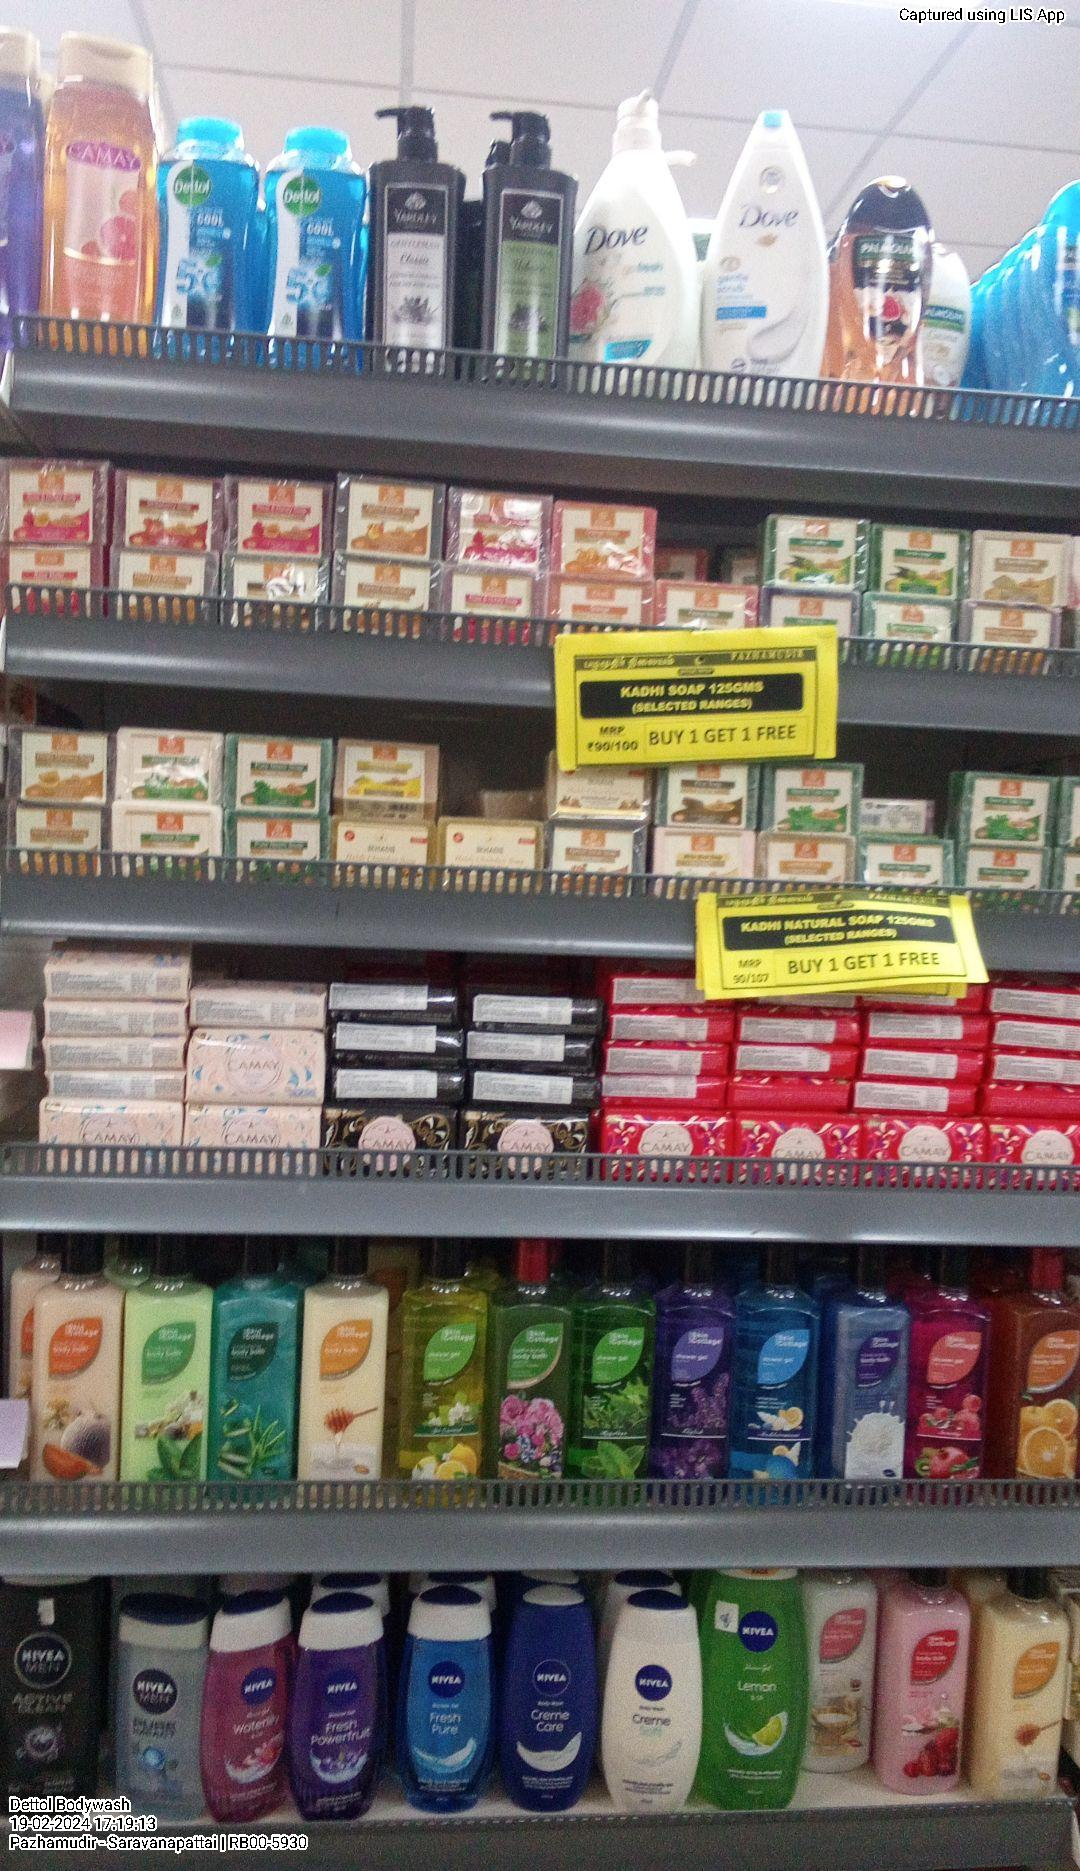Dettol_Bodywash_Cool: (266, 116, 366, 365), (154, 112, 258, 348)
Dove_Gentle_Exfoliating_Body_Wash_250ML: (708, 108, 825, 386)
Nivea_Creme_Care_Body_Wash_250ML: (501, 1586, 597, 1811)
Nivea_Creme_Soft_Body_Wash_250ML: (606, 1595, 701, 1811)
Nivea_Shower_Gel_Fresh_Powerfruit_250ML: (298, 1599, 383, 1822)
Nivea_Shower_Gel_Lemon_and_Oil_250ML: (711, 1568, 802, 1808)
Nivea_Shower_Gel_Waterlily_and_Oil_250ML: (203, 1592, 289, 1825)
Palmolive_Luminous_Oils_With_White_Orchid_Shower_Gel_250ML: (840, 177, 930, 407)
